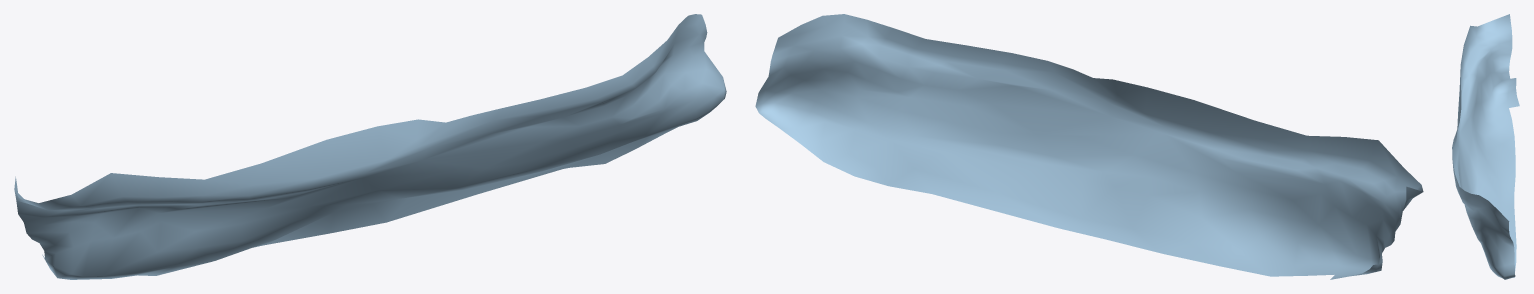
File: RS-4X_ice00.fbx
3 views of the same model, side by side, from view 1: azimuth 30°, elevation 25°; view 2: azimuth 150°, elevation 25°; view 3: azimuth 270°, elevation 25° (orthographic). The views are drawn at different scales.
Visible parts, largest first — view 1: RS-4X_ice00.001; view 2: RS-4X_ice00.001; view 3: RS-4X_ice00.001.
Part boxes in pixels (x1=…): RS-4X_ice00.001: x1=14, y1=14, x2=726, y2=279; RS-4X_ice00.001: x1=755, y1=14, x2=1423, y2=279; RS-4X_ice00.001: x1=1452, y1=14, x2=1519, y2=279.
Bounding box in the file's own units: 14478 × 2879 × 1951.
